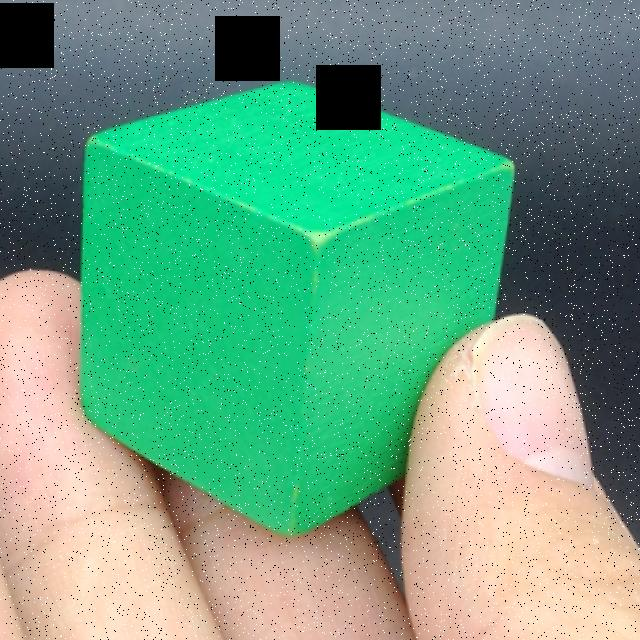green cube: (76, 81, 515, 538)
